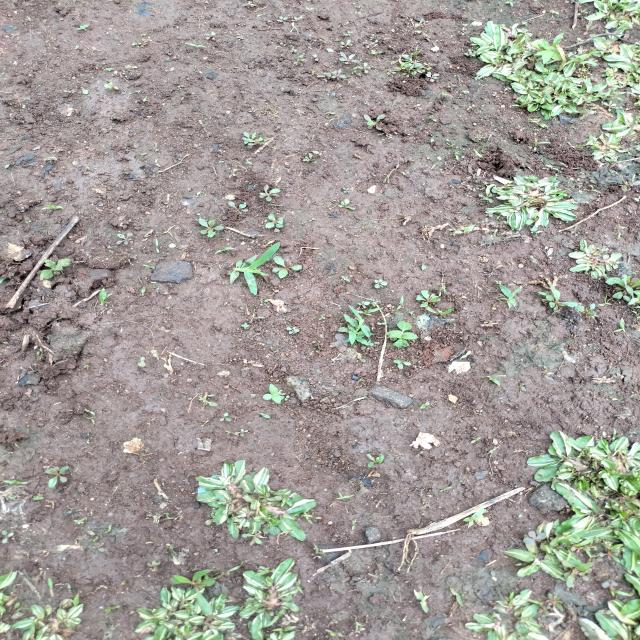bayi: (102, 80, 119, 93), (76, 22, 92, 32), (240, 321, 250, 329), (62, 88, 72, 95), (105, 66, 115, 72), (342, 276, 351, 282), (353, 234, 359, 237)
gingseng jawa: (166, 570, 220, 596), (538, 282, 578, 314), (605, 271, 640, 306), (272, 254, 304, 282), (42, 465, 72, 490), (257, 178, 283, 204), (412, 288, 442, 310), (194, 218, 226, 238), (239, 128, 268, 148), (263, 210, 287, 232), (229, 195, 250, 217), (362, 112, 387, 129), (338, 51, 361, 68), (113, 230, 136, 246), (366, 452, 388, 468), (296, 152, 321, 164), (330, 67, 348, 82), (338, 199, 357, 213), (371, 276, 388, 290), (356, 61, 374, 74), (337, 37, 354, 49), (424, 70, 441, 82)
rambat atas: (226, 241, 282, 297), (337, 303, 375, 348), (556, 43, 598, 74), (497, 281, 525, 310), (410, 586, 433, 614), (462, 508, 490, 530), (449, 582, 466, 608)
tunggang besar: (384, 319, 420, 349), (38, 256, 74, 280), (261, 381, 292, 407)
